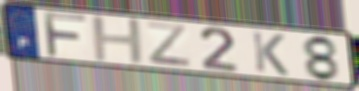2: (197, 25, 242, 75)
8: (300, 33, 342, 84)
F: (40, 9, 89, 60)
H: (89, 15, 147, 66)
K: (249, 29, 291, 78)
Z: (143, 20, 195, 69)
